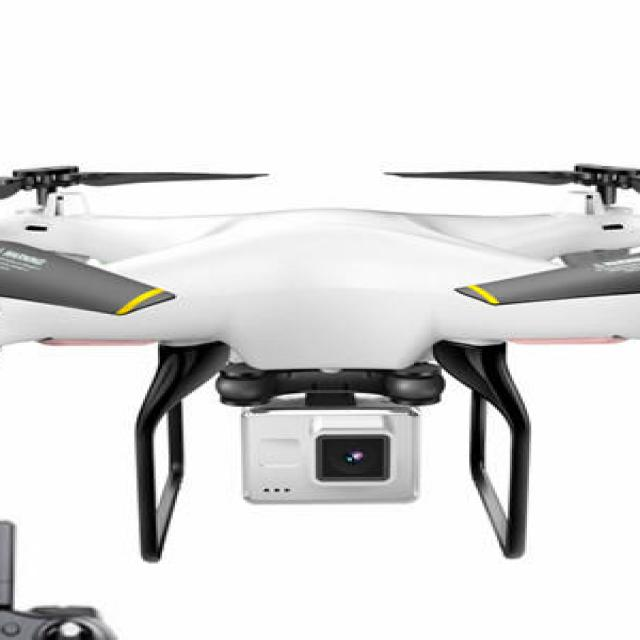drone: (0, 137, 640, 553)
